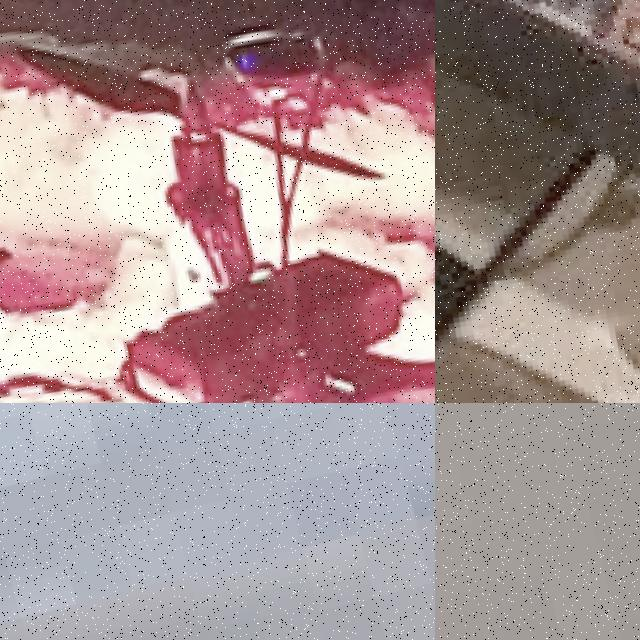drone: (0, 0, 435, 403), (435, 0, 640, 403)
